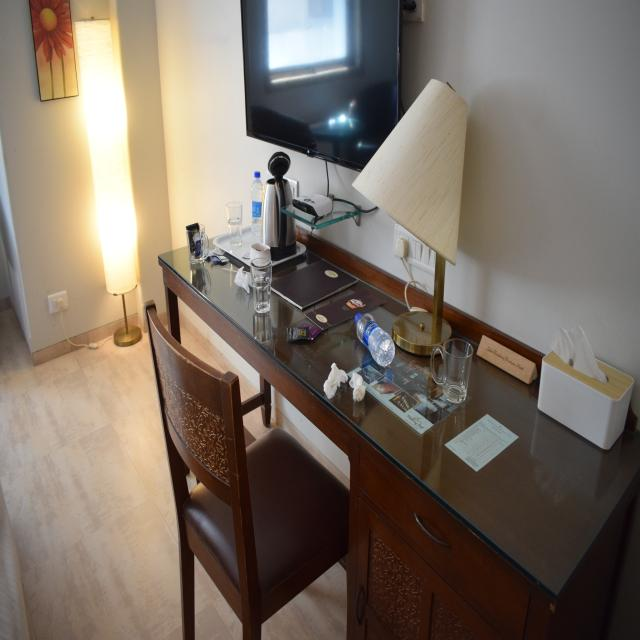mess: (162, 214, 516, 482)
